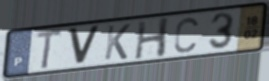3: (208, 11, 236, 52)
C: (172, 16, 200, 55)
H: (133, 16, 172, 61)
K: (102, 23, 132, 62)
T: (34, 28, 65, 72)
V: (67, 24, 102, 66)
